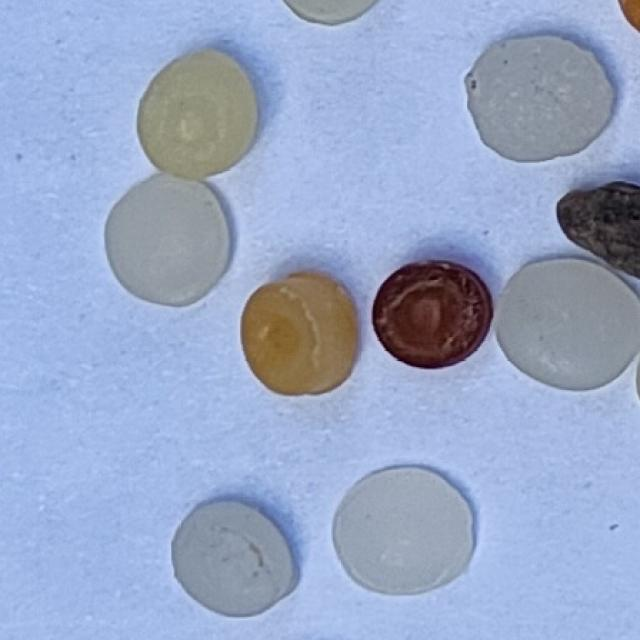beads: (150, 480, 312, 640), (118, 40, 277, 195), (96, 167, 243, 316), (466, 34, 616, 163), (496, 261, 640, 391), (333, 469, 475, 597), (238, 269, 362, 400), (374, 264, 494, 369)
